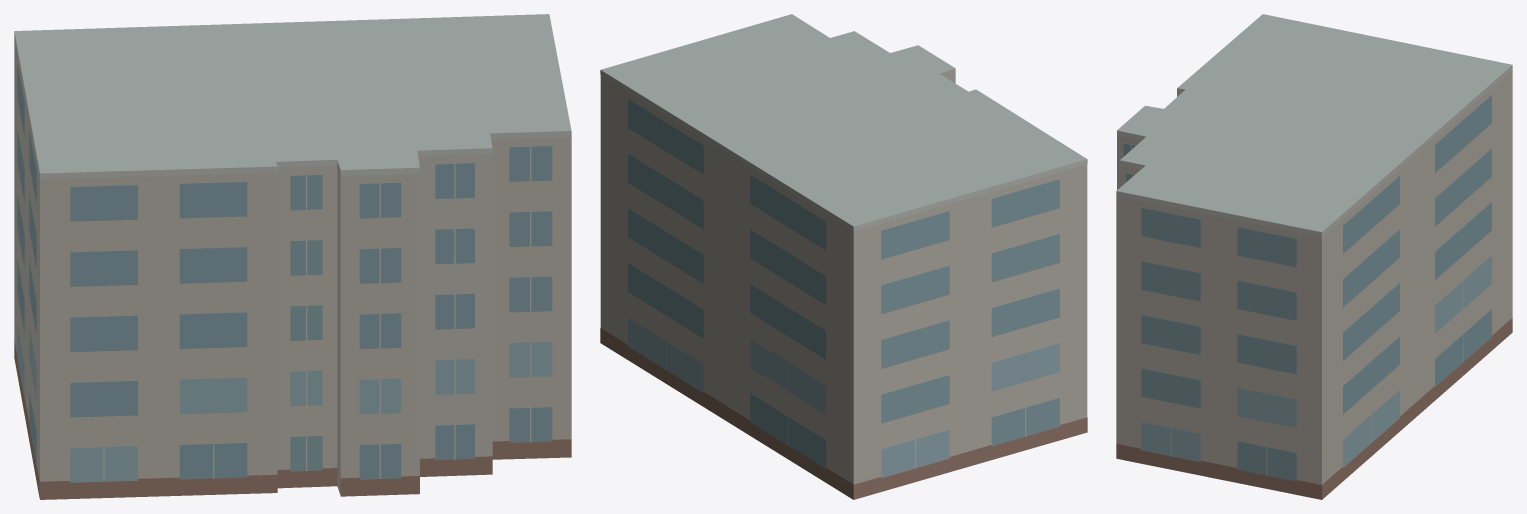
File: survey-upis-32658396.glb
3 views of the same model, side by side, from view 1: azimuth 30°, elevation 25°; view 2: azimuth 150°, elevation 25°; view 3: azimuth 270°, elevation 25° (orthographic). The views are drawn at different scales.
Parts seen in each view (by area): view 1: survey-upis-32658396.tmp; view 2: survey-upis-32658396.tmp; view 3: survey-upis-32658396.tmp.
Part boxes in pixels (left/top/right/bottom): survey-upis-32658396.tmp: left=14, top=14, right=571, bottom=499; survey-upis-32658396.tmp: left=600, top=14, right=1087, bottom=499; survey-upis-32658396.tmp: left=1116, top=14, right=1512, bottom=499.
Bounding box in the file's own units: 23.36 × 13.35 × 17.93.
